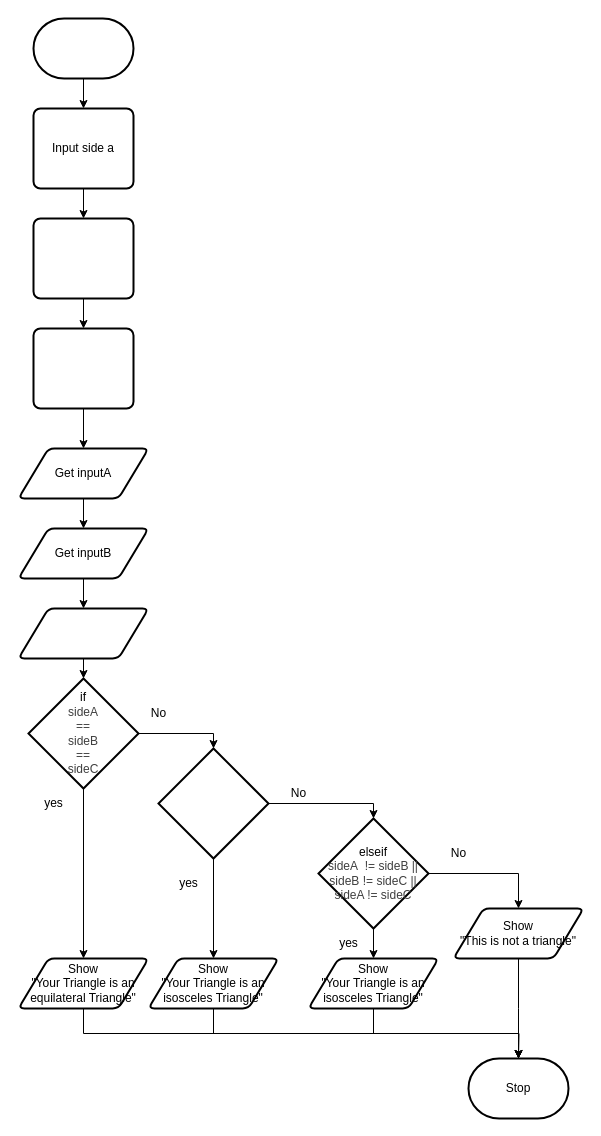
This 601x1136 diagram has some shape labels left out. The shapes that lost their labels are listed below. From the top down, each one's box as (x1, y1, x2, y2) in pixels, then its label:
(32, 17, 134, 79): Start
(32, 217, 134, 299): Input side b
(32, 327, 134, 409): Input side c
(17, 607, 149, 659): Get inputC
(157, 747, 269, 859): elseif sideA == sideB || sideB == sideC || sideA == sideC
